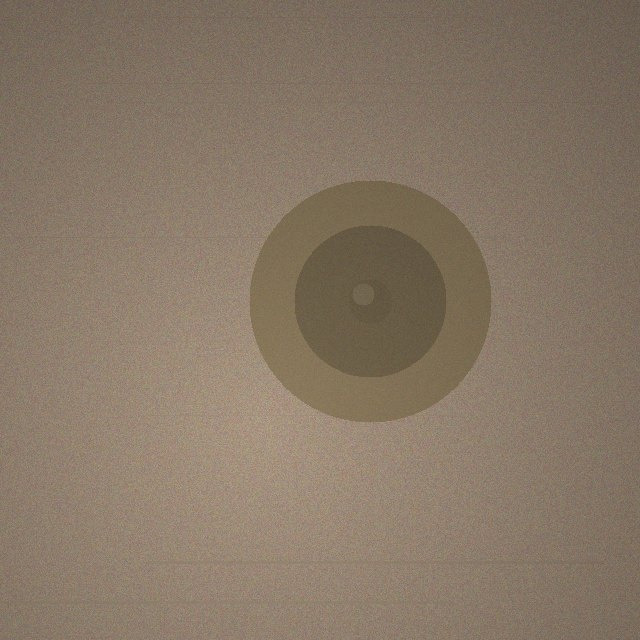good: (249, 180, 491, 422)
